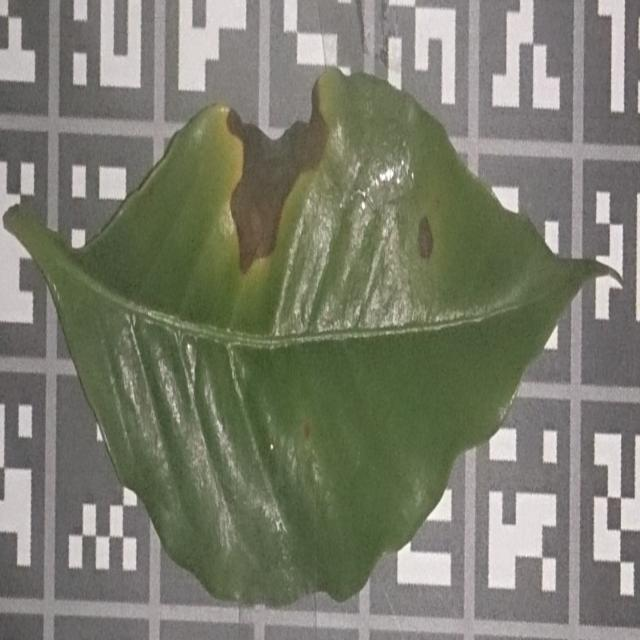Enfermedad-Mancha-de-hierro: (2, 68, 617, 610)
